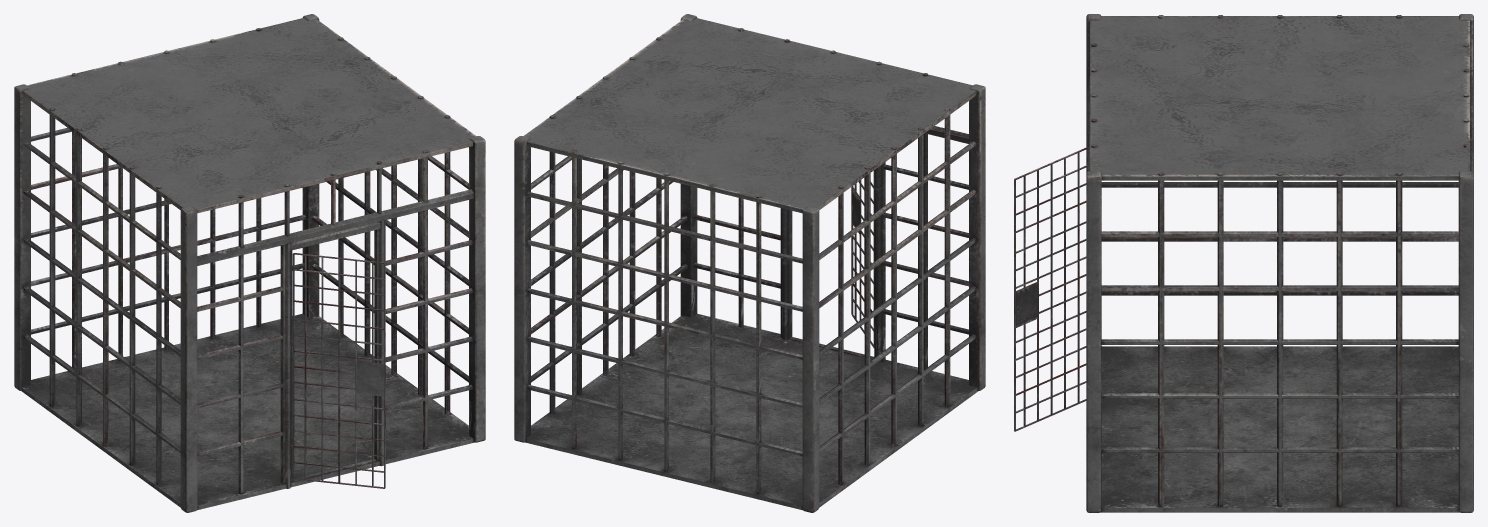
File: low-poly_prison_cage__free_game_asset.fbx
The picture shows the model from 3 angles, left to right: view 1: azimuth 30°, elevation 25°; view 2: azimuth 150°, elevation 25°; view 3: azimuth 270°, elevation 25°; orthographic projection. The views are drawn at different scales.
Visible parts, largest first — view 1: node_cf256aa5_2e2c_4bc0_bf70_884197125f44_mesh0, node_09cdf23c_e555_4032_82d5_bbd16813031a_mesh0, node_51fd9db1_8ad5_4807_afc0_a5693049990b_mesh0, node_ff93fae0_4939_4602_8999_341d1542047b_mesh0, node_e876d332_bea4_4c26_ad25_c162fec94bf3_mesh0; view 2: node_cf256aa5_2e2c_4bc0_bf70_884197125f44_mesh0, node_09cdf23c_e555_4032_82d5_bbd16813031a_mesh0, node_51fd9db1_8ad5_4807_afc0_a5693049990b_mesh0, node_e876d332_bea4_4c26_ad25_c162fec94bf3_mesh0, node_ff93fae0_4939_4602_8999_341d1542047b_mesh0; view 3: node_cf256aa5_2e2c_4bc0_bf70_884197125f44_mesh0, node_09cdf23c_e555_4032_82d5_bbd16813031a_mesh0, node_51fd9db1_8ad5_4807_afc0_a5693049990b_mesh0, node_ff93fae0_4939_4602_8999_341d1542047b_mesh0.
Part boxes in pixels (<box>): node_cf256aa5_2e2c_4bc0_bf70_884197125f44_mesh0: <box>21,18,476,510</box>; node_09cdf23c_e555_4032_82d5_bbd16813031a_mesh0: <box>23,28,473,494</box>; node_51fd9db1_8ad5_4807_afc0_a5693049990b_mesh0: <box>14,14,485,512</box>; node_ff93fae0_4939_4602_8999_341d1542047b_mesh0: <box>292,253,385,488</box>; node_e876d332_bea4_4c26_ad25_c162fec94bf3_mesh0: <box>280,220,385,488</box>; node_cf256aa5_2e2c_4bc0_bf70_884197125f44_mesh0: <box>523,18,978,510</box>; node_09cdf23c_e555_4032_82d5_bbd16813031a_mesh0: <box>527,28,976,494</box>; node_51fd9db1_8ad5_4807_afc0_a5693049990b_mesh0: <box>514,14,985,512</box>; node_e876d332_bea4_4c26_ad25_c162fec94bf3_mesh0: <box>780,162,885,362</box>; node_ff93fae0_4939_4602_8999_341d1542047b_mesh0: <box>851,170,874,348</box>; node_cf256aa5_2e2c_4bc0_bf70_884197125f44_mesh0: <box>1090,16,1469,512</box>; node_09cdf23c_e555_4032_82d5_bbd16813031a_mesh0: <box>1088,15,1468,506</box>; node_51fd9db1_8ad5_4807_afc0_a5693049990b_mesh0: <box>1086,14,1473,512</box>; node_ff93fae0_4939_4602_8999_341d1542047b_mesh0: <box>1014,147,1088,431</box>.
Size of the model in its own units: 25300 by 24300 by 30022.
Materials: 1 (1 with a texture image).
